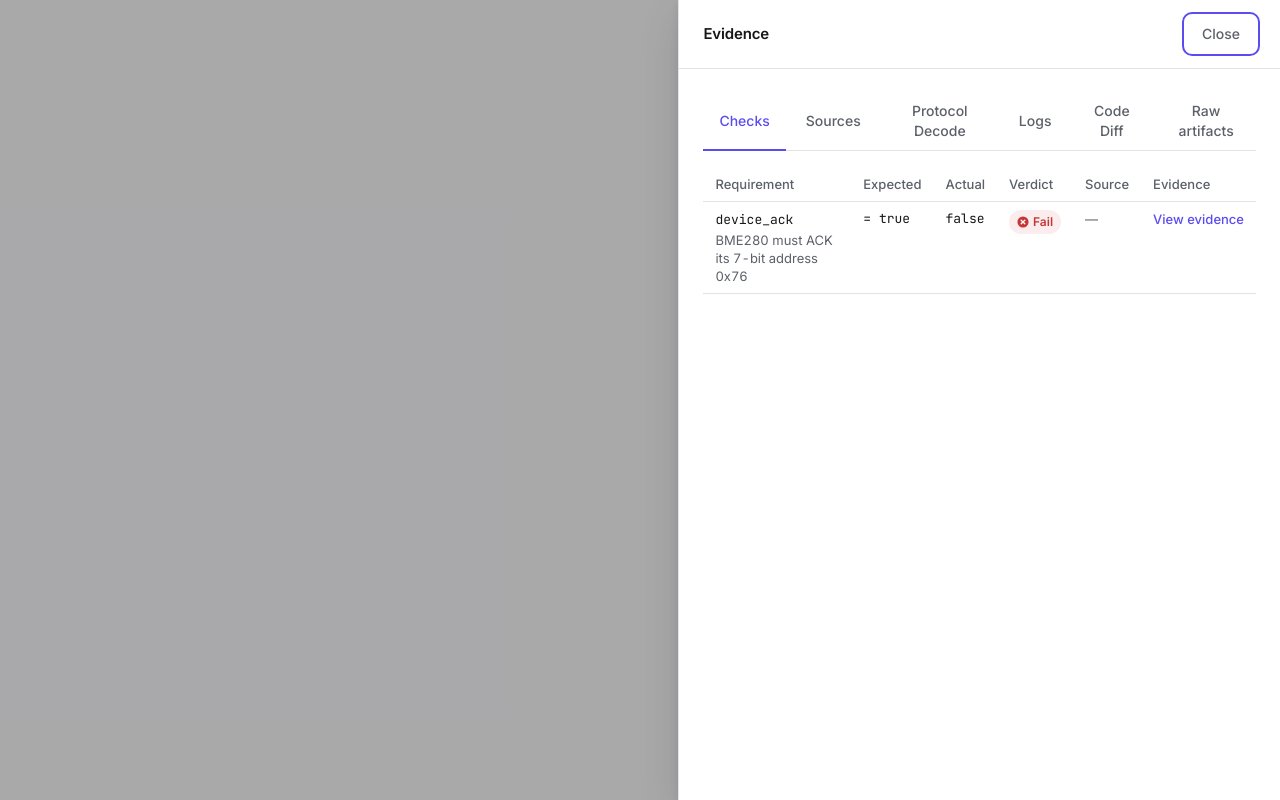
Test: EvidenceDrawer Sources tab (T6.3) › renders a Sources tab that lists the profile documents
This screenshot has width=1280, height=800.
Click the tab "Sources". click: click(833, 122)
box: [790,93,877,151]
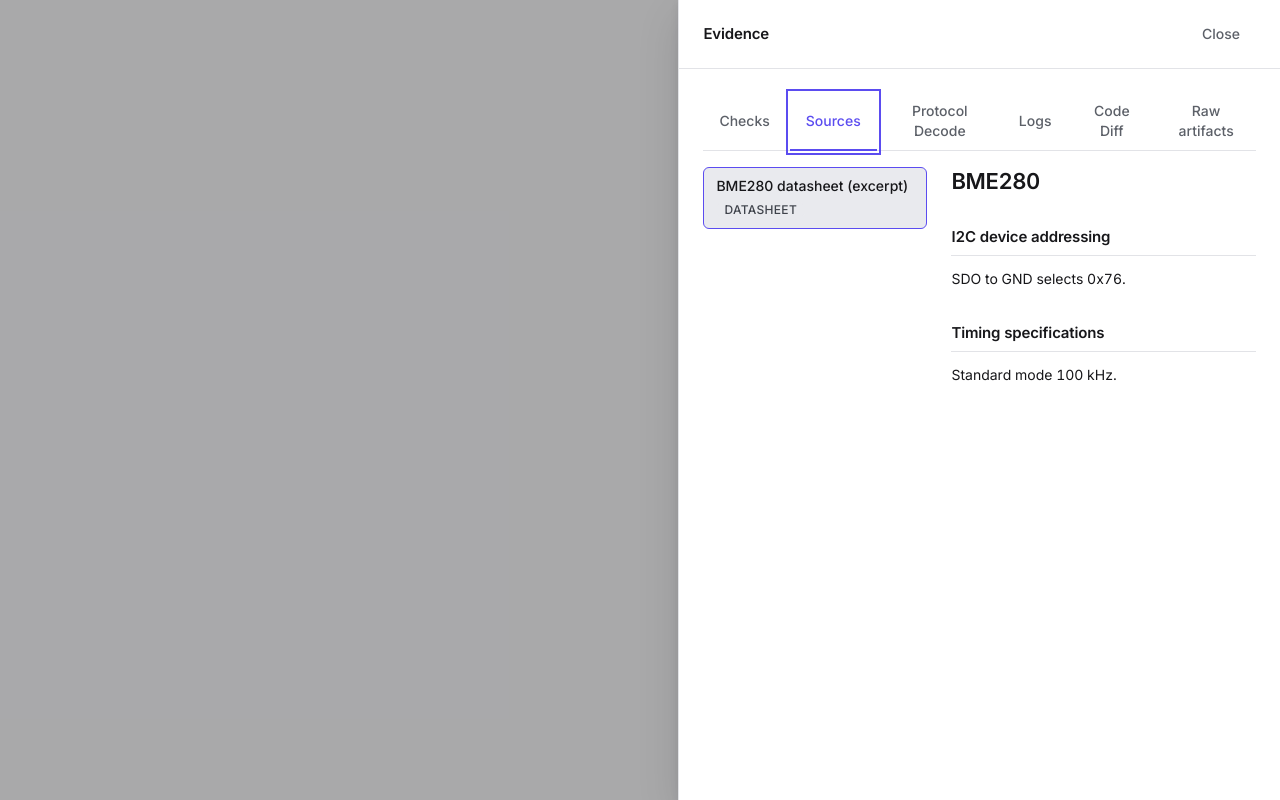
Expected: the heading "Timing specifications" is shown, [951,323,1256,352]
